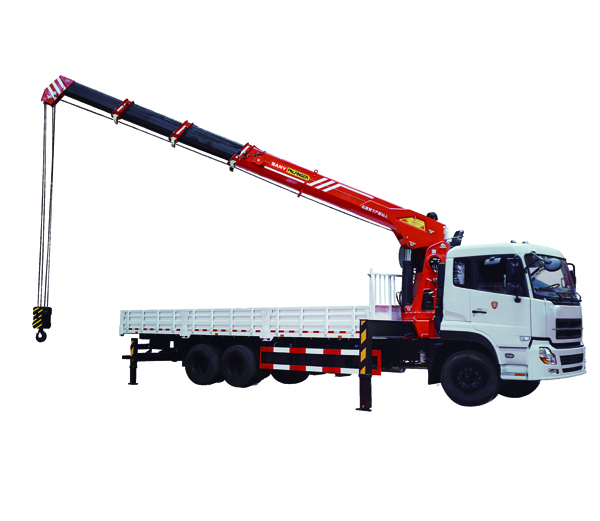crane: (39, 73, 588, 406)
